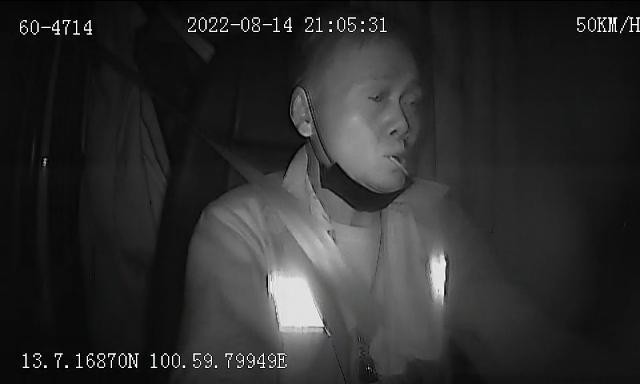SafeDriving: (400, 86, 428, 112)
Seatbelt: (227, 156, 389, 344)
